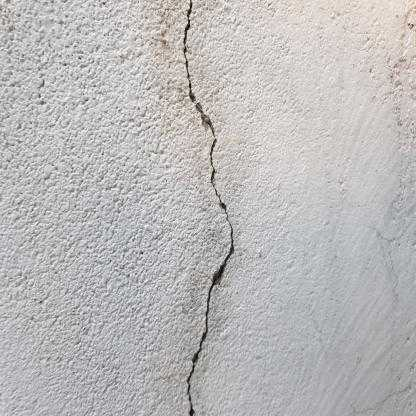crack: (182, 1, 235, 416)
